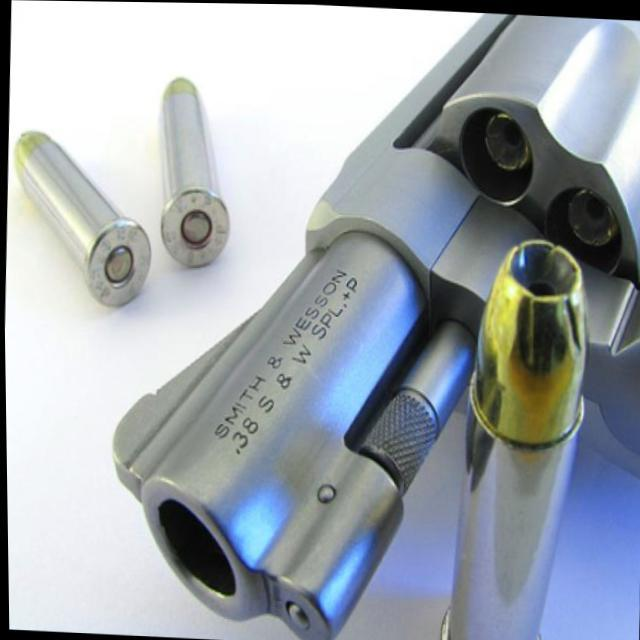weapon: (97, 1, 640, 640)
